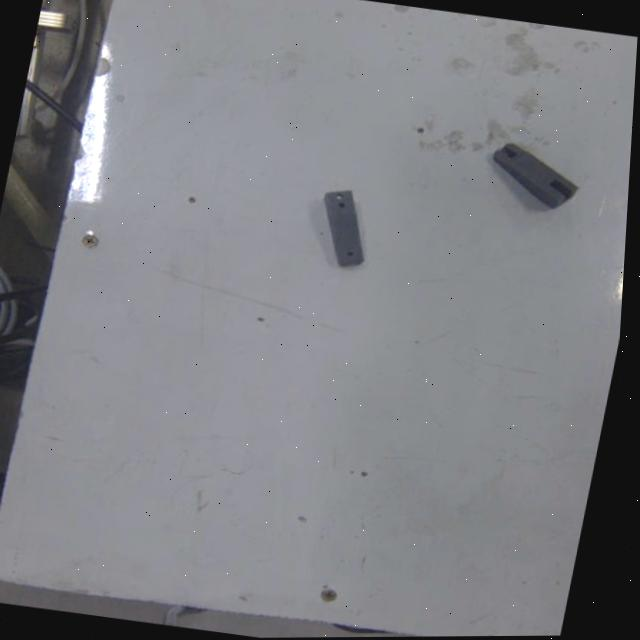grey: (310, 186, 384, 274)
head: (344, 248, 363, 262)
